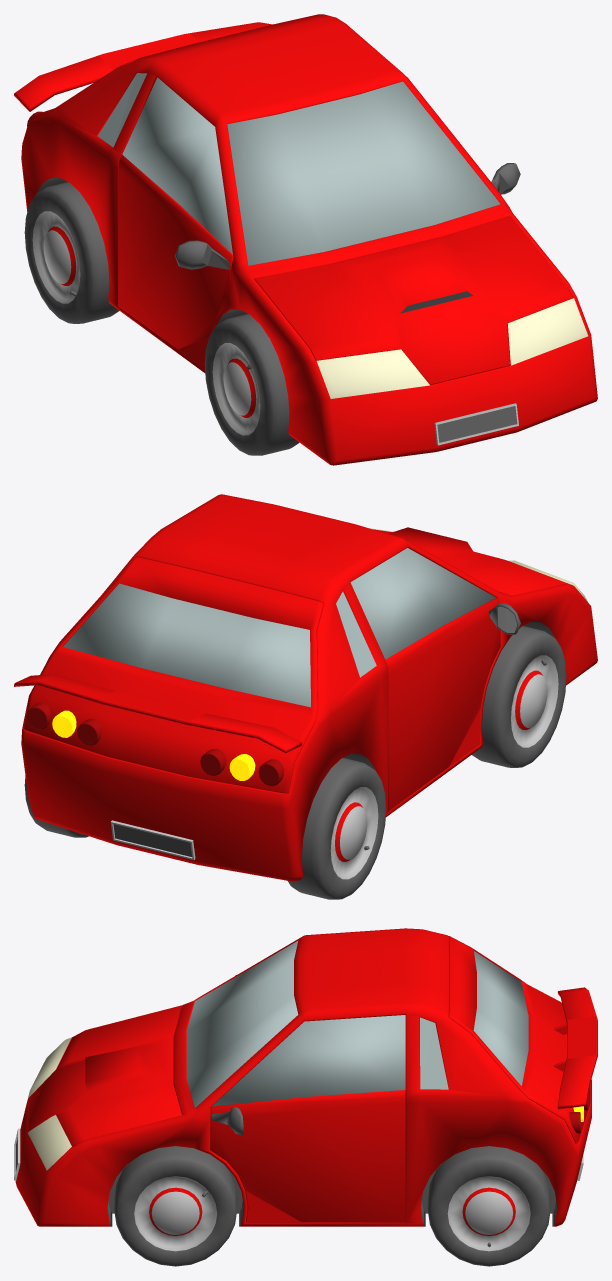
File: Sport_Car.fbx
The picture shows the model from 3 angles, top to bottom: view 1: azimuth 30°, elevation 25°; view 2: azimuth 150°, elevation 25°; view 3: azimuth 270°, elevation 25°; orthographic projection. The views are drawn at different scales.
Visible parts, largest first — view 1: carrosserie, elements, hood, door_front_R, Tire_Back_R, Tire_Front_R, glass_front_R, spoiler, door_front_L; view 2: carrosserie, Trunk, door_front_R, Tire_Back_R, Tire_Front_R, glass_front_R, spoiler, hood, elements; view 3: carrosserie, door_front_L, elements, hood, Trunk, Tire_Back_L, Tire_Front_L, glass_front_L, spoiler.
Boxes of the visible parts, bbox=[...] form: carrosserie: bbox=[21, 14, 597, 465]; elements: bbox=[98, 73, 588, 445]; hood: bbox=[254, 216, 573, 385]; door_front_R: bbox=[118, 154, 233, 368]; Tire_Back_R: bbox=[24, 182, 119, 323]; Tire_Front_R: bbox=[204, 314, 299, 455]; glass_front_R: bbox=[122, 77, 232, 254]; spoiler: bbox=[14, 22, 272, 111]; door_front_L: bbox=[491, 163, 520, 194]; carrosserie: bbox=[21, 494, 597, 881]; Trunk: bbox=[22, 557, 323, 793]; door_front_R: bbox=[385, 597, 520, 811]; Tire_Back_R: bbox=[287, 758, 386, 899]; Tire_Front_R: bbox=[472, 626, 566, 767]; glass_front_R: bbox=[350, 548, 496, 659]; spoiler: bbox=[14, 674, 301, 752]; hood: bbox=[373, 527, 572, 595]; elements: bbox=[110, 528, 587, 859]; carrosserie: bbox=[15, 928, 591, 1226]; door_front_L: bbox=[210, 1090, 405, 1222]; elements: bbox=[14, 940, 583, 1180]; hood: bbox=[28, 1006, 181, 1146]; Trunk: bbox=[448, 936, 590, 1143]; Tire_Back_L: bbox=[427, 1146, 550, 1266]; Tire_Front_L: bbox=[114, 1146, 237, 1266]; glass_front_L: bbox=[211, 1015, 405, 1106]; spoiler: bbox=[554, 987, 597, 1109].
Bounding box in the file's own units: 0.019 × 0.0146 × 0.0322.
